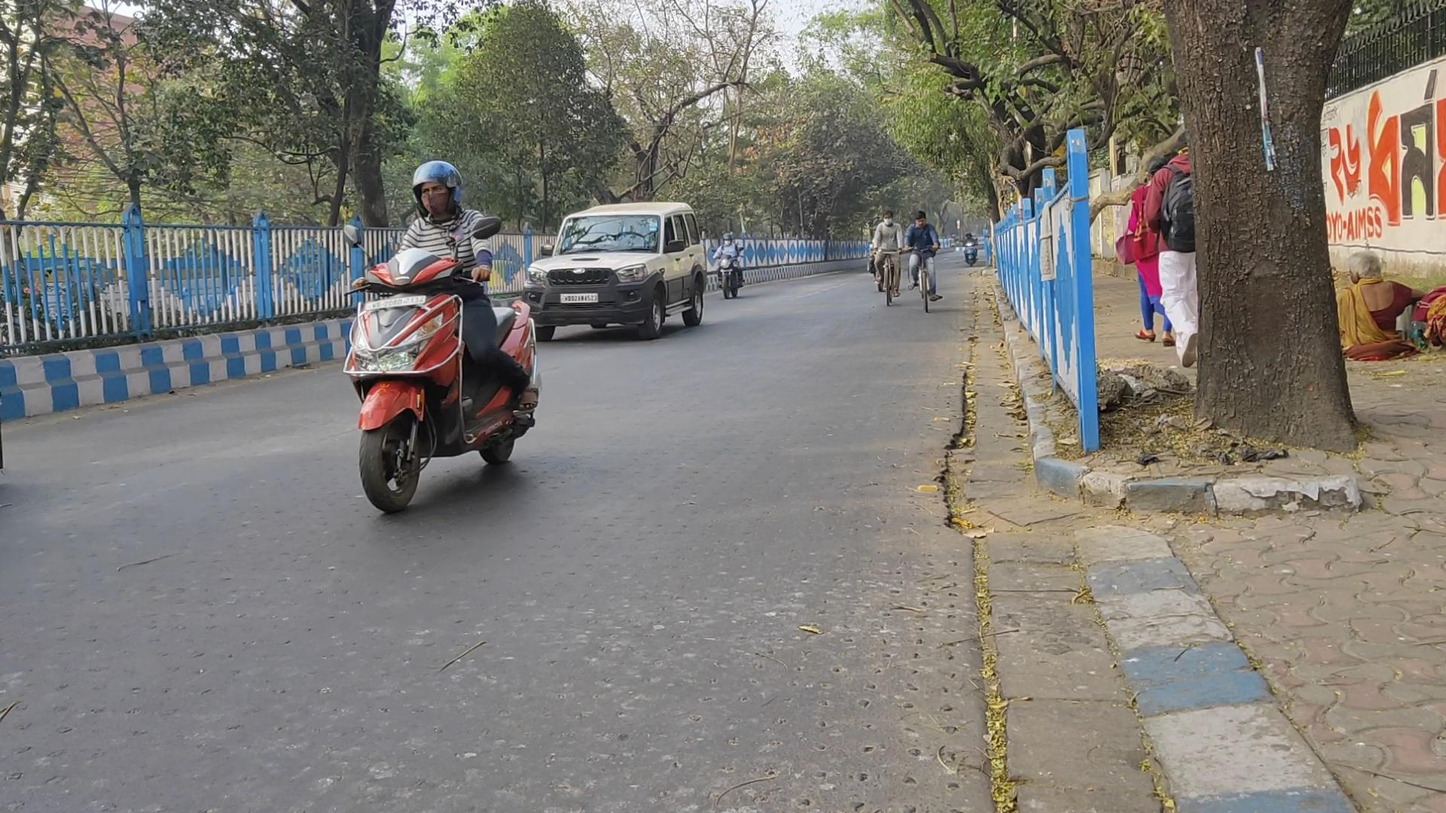bike: (344, 160, 539, 514), (908, 210, 944, 315), (870, 209, 906, 307), (712, 233, 744, 301), (959, 232, 980, 267)
car: (528, 200, 706, 346)
